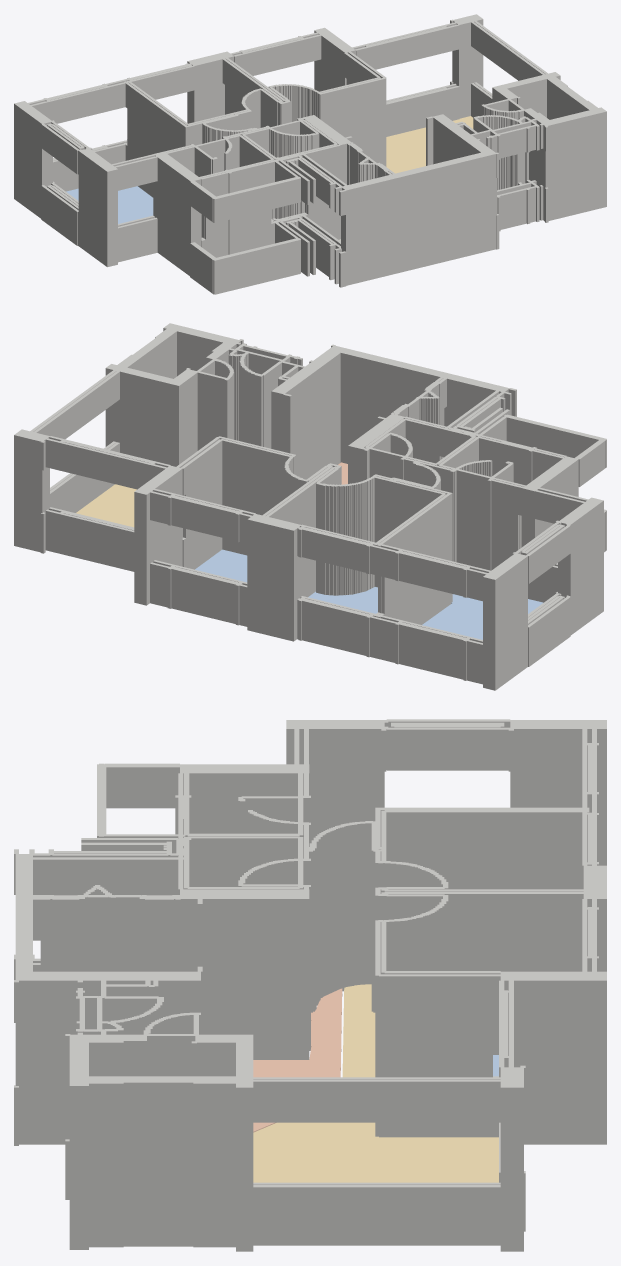
3 renders of one model, top to bottom at view 1: azimuth 30°, elevation 25°; view 2: azimuth 150°, elevation 25°; view 3: azimuth 270°, elevation 25°, orthographic. The views are drawn at different scales.
Visible parts, largest first — view 1: walls, room:living:8, room:bedroom:7; view 2: walls, room:bedroom:7, room:living:8, room:bedroom:6, room:bedroom:0; view 3: walls, room:living:8, room:kitchen:2.
Boxes of the visible parts, <box> form: walls: <box>14,14,606,294</box>; room:living:8: <box>386,116,473,173</box>; room:bedroom:7: <box>66,186,153,223</box>; walls: <box>14,323,606,690</box>; room:bedroom:7: <box>422,594,543,639</box>; room:living:8: <box>76,484,136,527</box>; room:bedroom:6: <box>195,549,247,582</box>; room:bedroom:0: <box>308,587,377,613</box>; walls: <box>14,719,606,1251</box>; room:living:8: <box>253,984,498,1182</box>; room:kitchen:2: <box>253,988,342,1132</box>.
Bounding box in the file's own units: 13.49 × 2.8 × 9.18.
